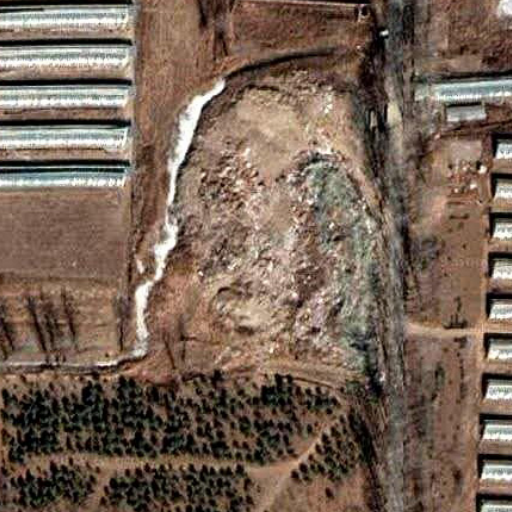msw: (193, 139, 372, 367)
